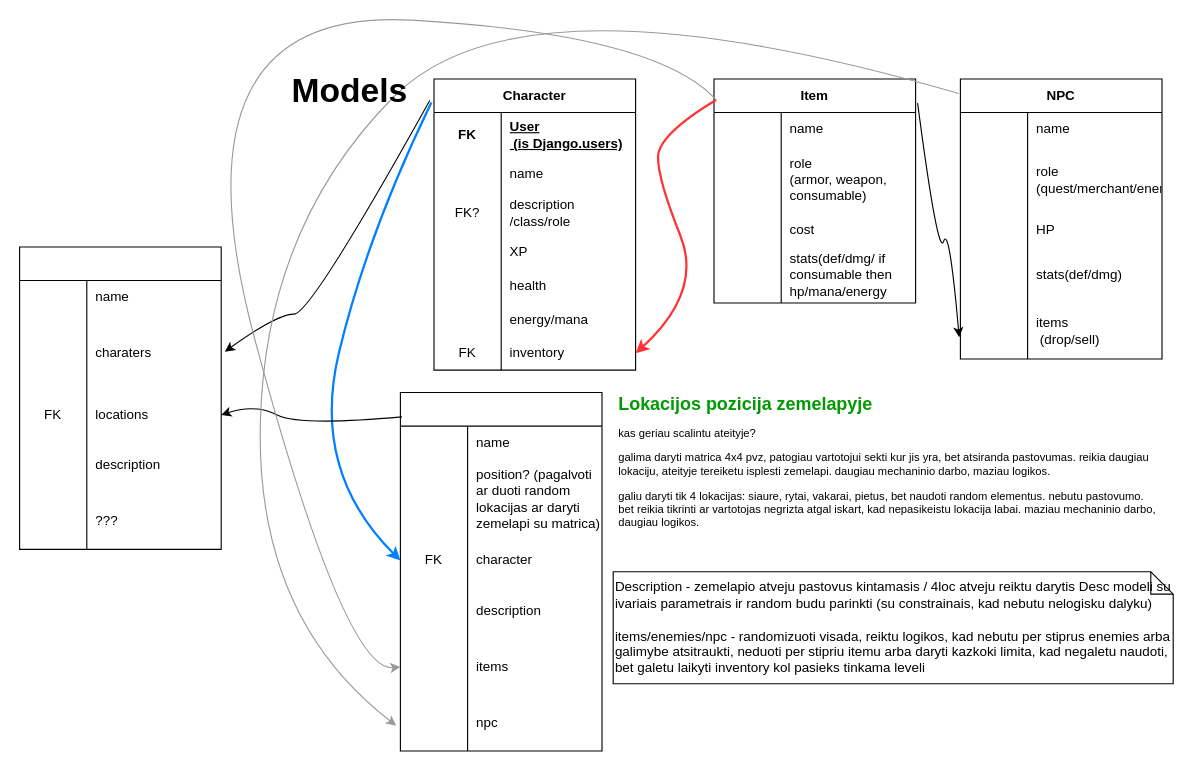
This 1201x772 diagram has some shape labels left out. Each missing label, with the box of its shape:
Location: (399, 391, 602, 751)
WORLD: (18, 246, 221, 549)
